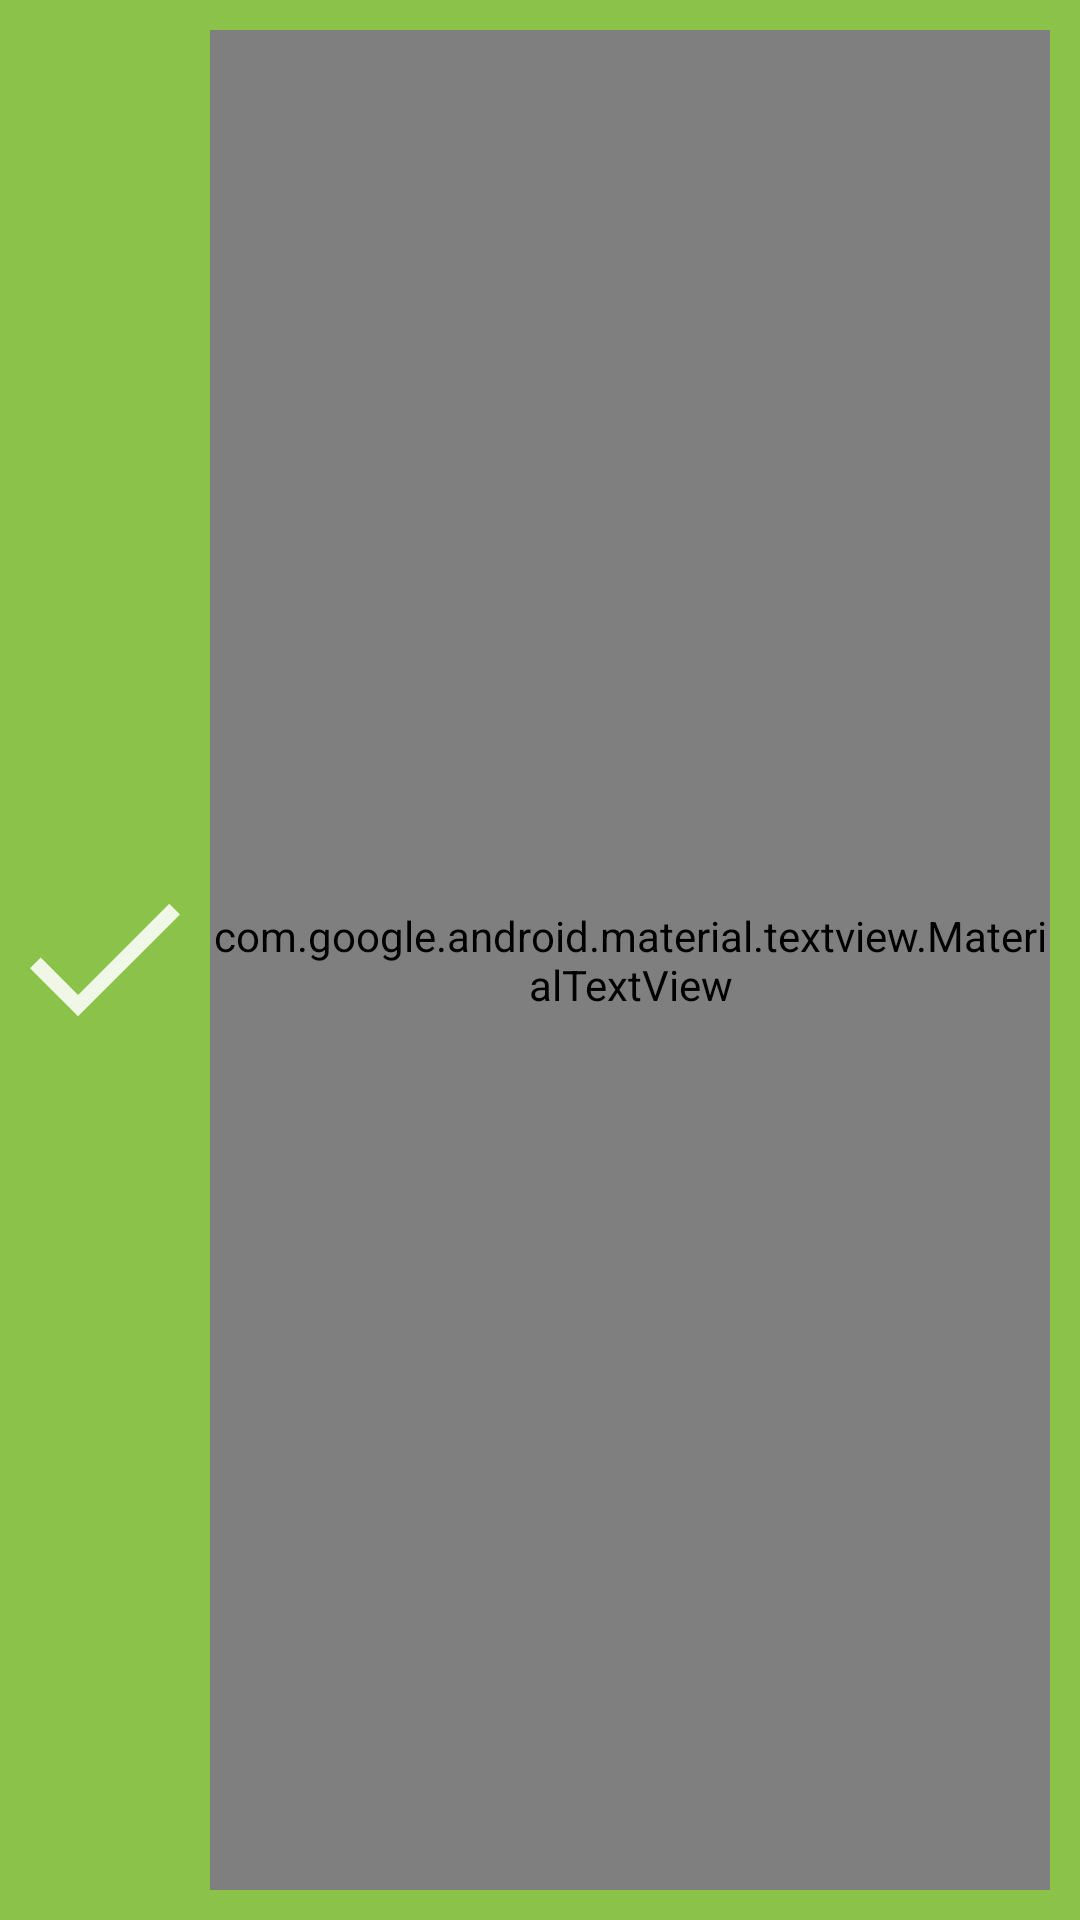

Locate icon controls on the screen. Image size 1080px×1920px, boxes as detection(x1, y1, x2, y2).
correct: detection(30, 904, 180, 1016)
